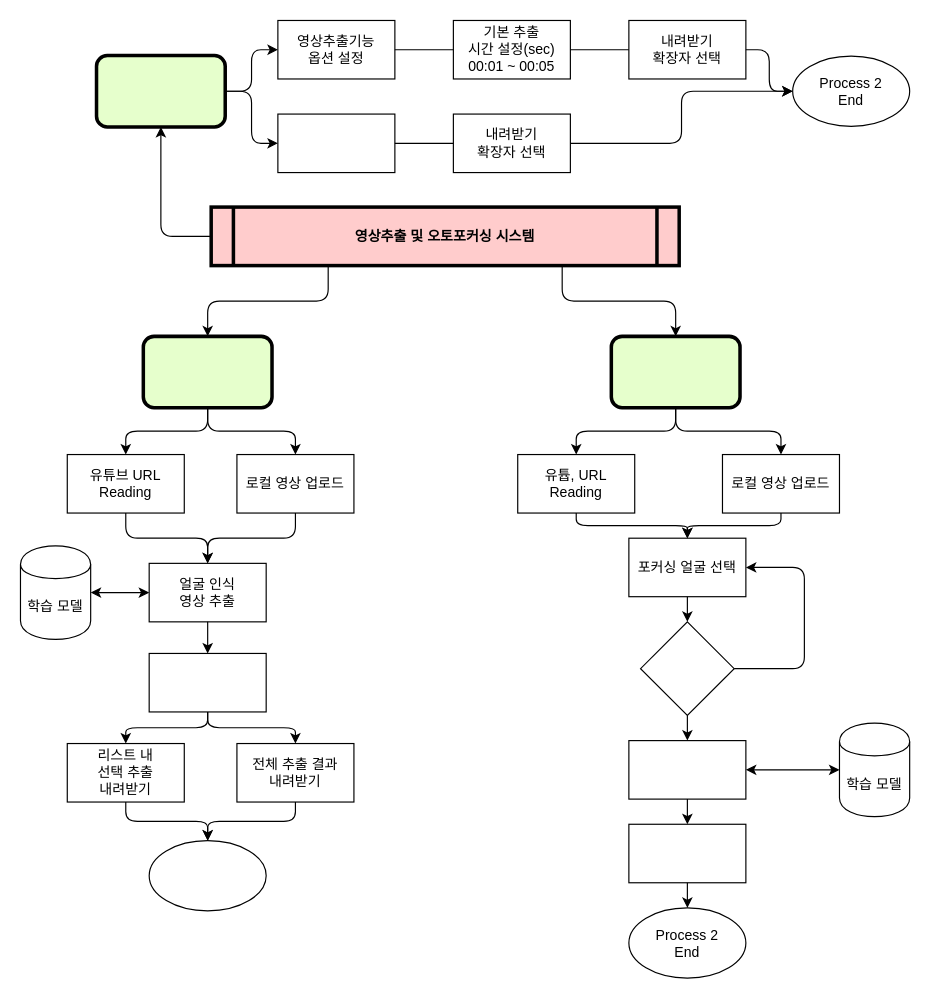
This 930x999 diagram has some shape labels left out. Here are the shapes that lost their labels. From the top down, the box of each, then its label:
(94, 53, 226, 128): Process 3 시스템 설정 기능
(277, 113, 395, 173): 오토포커싱기능 옵션 설정
(141, 334, 273, 409): Process 1 영상추출 기능
(609, 334, 741, 409): Process 2 오토포커싱 기능
(148, 652, 266, 712): 추출 결과 리스트 생성
(639, 621, 734, 715): 포커싱 판별
(628, 739, 746, 799): 영상 추출
(628, 823, 746, 883): 내려받기 수행
(148, 839, 266, 911): Process 1 End
